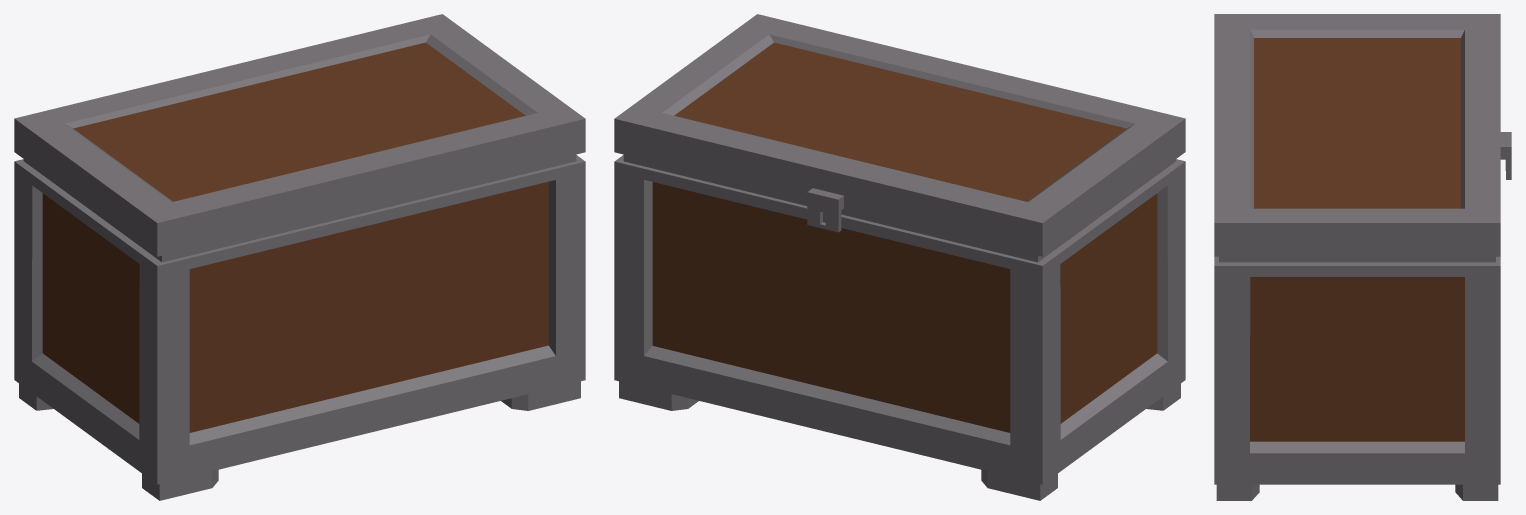
File: chest01.obj
3 renders of one model, left to right at view 1: azimuth 30°, elevation 25°; view 2: azimuth 150°, elevation 25°; view 3: azimuth 270°, elevation 25°, orthographic.
Parts seen in each view (by area): view 1: Cube_Cube.001; view 2: Cube_Cube.001; view 3: Cube_Cube.001.
Part boxes in pixels (box(x1,y1,x2,y2)): Cube_Cube.001: box(14, 14, 585, 500); Cube_Cube.001: box(614, 14, 1185, 500); Cube_Cube.001: box(1214, 14, 1511, 500).
Bounding box in the file's own units: 0.7622 × 0.4751 × 0.4579.
